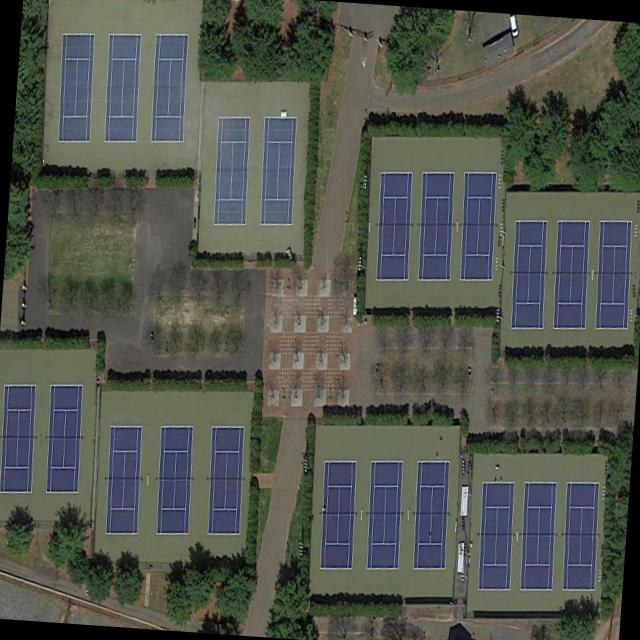small-vehicle: (508, 13, 517, 37)
